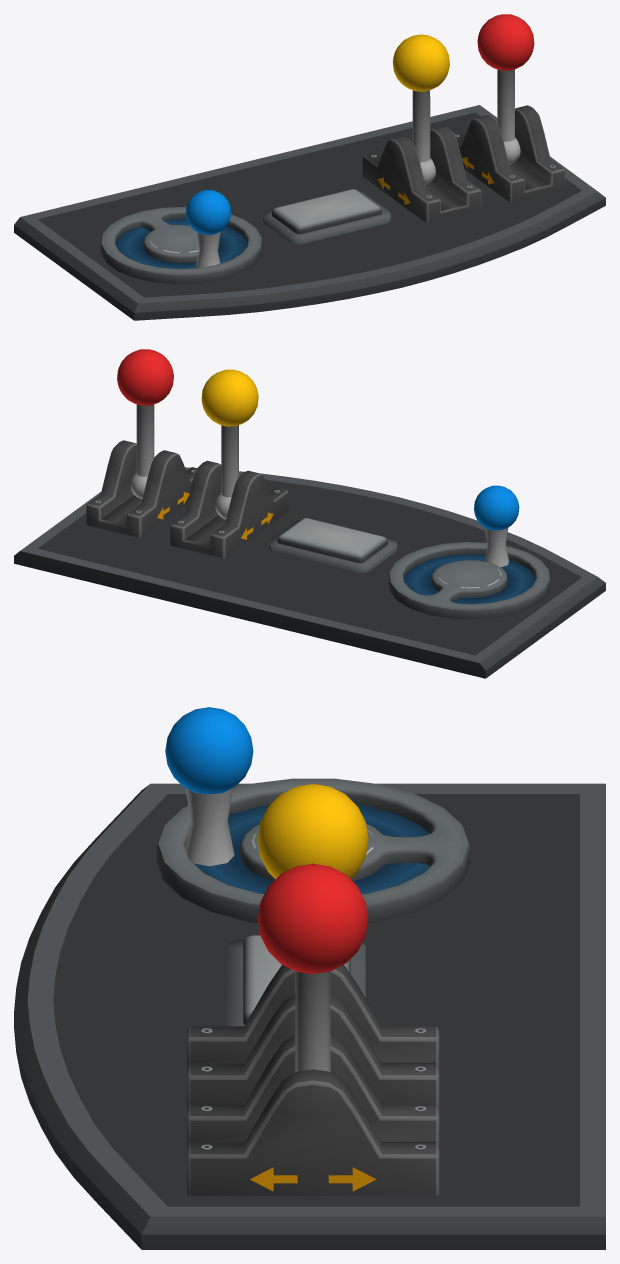
File: Controler.fbx
3 renders of one model, top to bottom at view 1: azimuth 30°, elevation 25°; view 2: azimuth 150°, elevation 25°; view 3: azimuth 270°, elevation 25°, orthographic. The views are drawn at different scales.
Parts seen in each view (by area): view 1: Control Button_base, lever_01.002, Round Button, lever_01.001, Yellow Lever, Red Lever, Button, Blue Lever, Cylinder.003, Button Base; view 2: Control Button_base, Round Button, lever_01.002, lever_01.001, Red Lever, Yellow Lever, Button, Cylinder.003, Blue Lever, Button Base; view 3: Control Button_base, lever_01.001, lever_01.002, Round Button, Red Lever, Blue Lever, Yellow Lever, Cylinder.003, Button Base, Button.
Boxes of the visible parts, x1,y1,x2,y2 form: Control Button_base: (14,105,605,320); lever_01.002: (362,125,481,223); Round Button: (100,206,262,284); lever_01.001: (454,105,565,202); Yellow Lever: (392,34,449,184); Red Lever: (477,14,534,164); Button: (272,189,381,234); Blue Lever: (186,190,231,268); Cylinder.003: (116,218,247,268); Button Base: (263,191,390,244); Control Button_base: (14,467,605,678); Round Button: (389,542,550,619); lever_01.002: (170,460,288,558); lever_01.001: (86,440,196,537); Red Lever: (117,349,173,499); Yellow Lever: (201,369,258,519); Button: (277,518,387,563); Cylinder.003: (404,554,535,604); Blue Lever: (474,485,519,567); Button Base: (269,520,397,572); Control Button_base: (14,783,605,1249); lever_01.001: (187,1035,439,1195); lever_01.002: (187,964,439,1107); Round Button: (157,778,470,923); Red Lever: (258,863,368,1072); Blue Lever: (165,707,253,866); Yellow Lever: (257,784,368,993); Cylinder.003: (194,805,429,894); Button Base: (226,939,365,1026); Button: (243,935,350,1024).
Bounding box in the file's own units: 0.3567 × 0.1231 × 0.2008.
